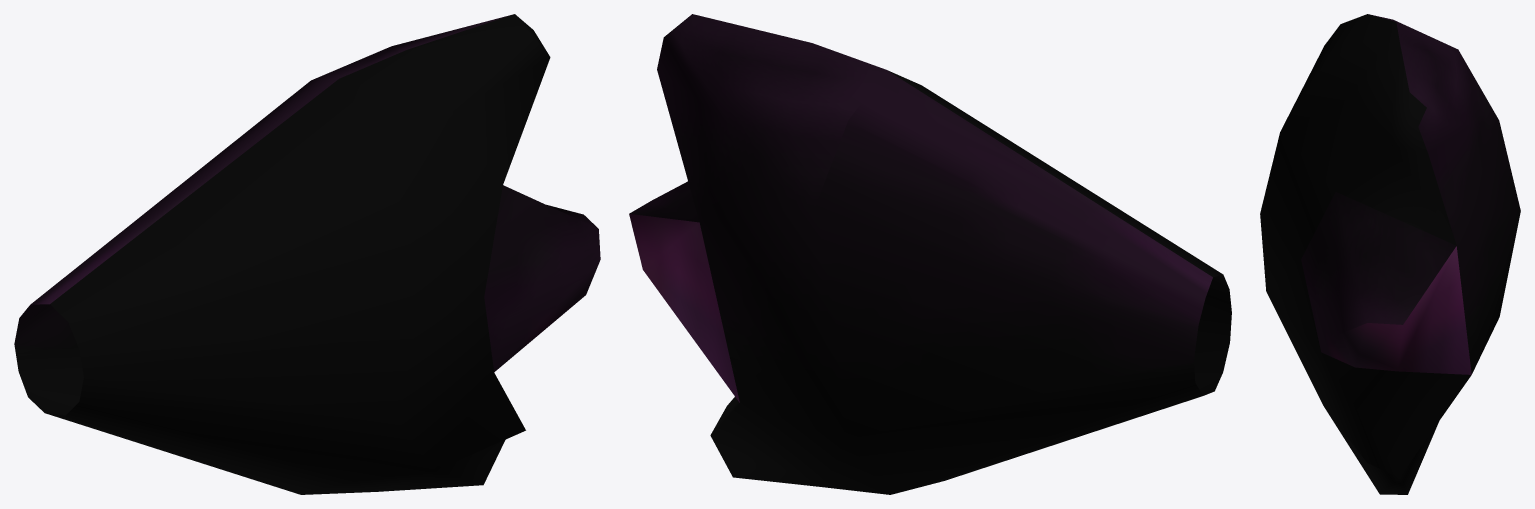
File: 0403_quantou_menghuan.glb
The picture shows the model from 3 angles, left to right: view 1: azimuth 30°, elevation 25°; view 2: azimuth 150°, elevation 25°; view 3: azimuth 270°, elevation 25°; orthographic projection. The views are drawn at different scales.
Bounding box in the file's own units: 2.2 × 1.68 × 0.9358.
1 material, 1 textured.
